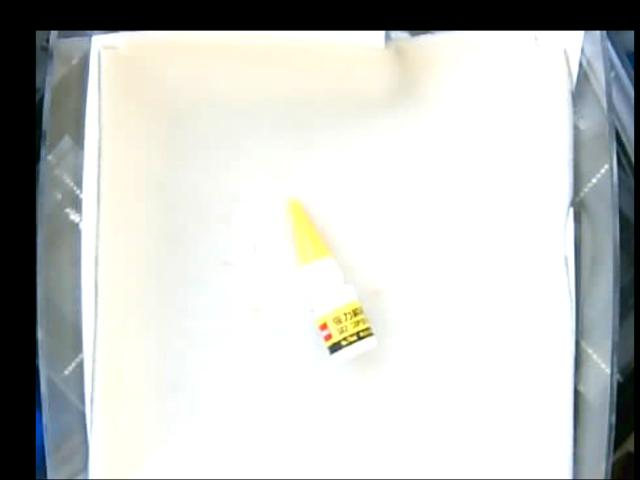Bottle: (283, 197, 378, 363)
